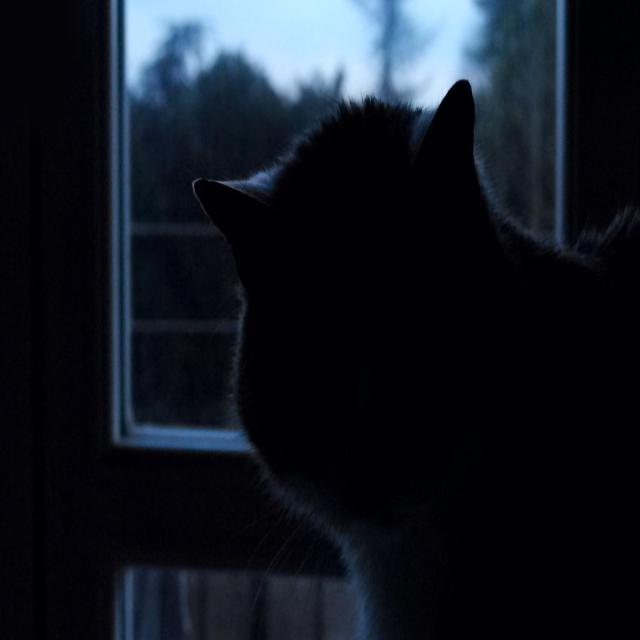Cat: (187, 64, 640, 640)
